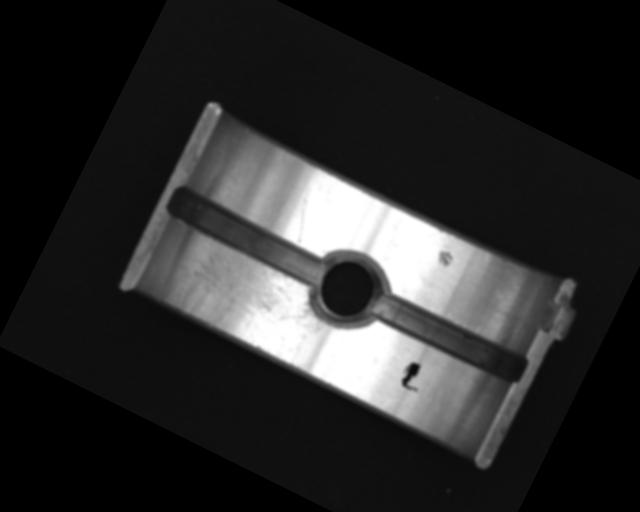blot: (396, 358, 429, 394)
bruise: (433, 247, 456, 270)
gap: (161, 181, 333, 292), (367, 285, 529, 389)
hole: (300, 242, 395, 340)
nick: (285, 199, 318, 244)
scratch: (156, 229, 337, 372)
